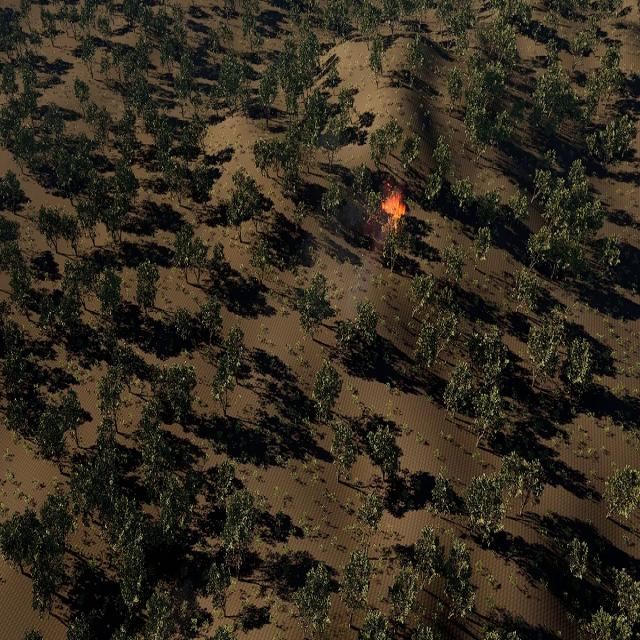fire: (380, 190, 404, 233)
